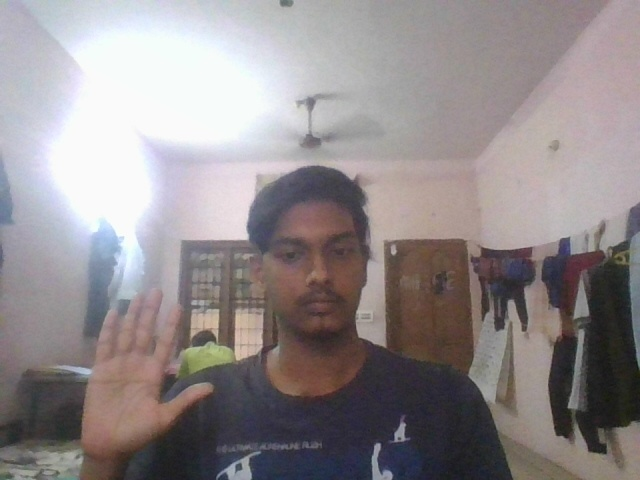hello: (73, 283, 221, 455)
